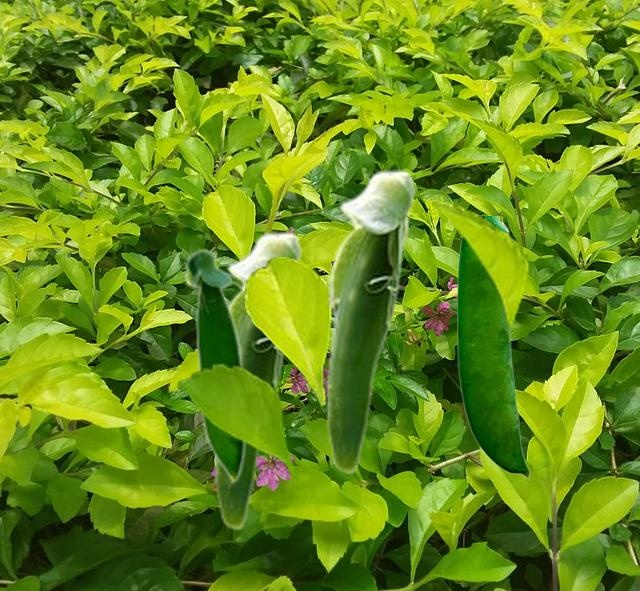pea: (325, 169, 416, 474), (213, 231, 302, 530), (457, 216, 529, 479), (183, 247, 246, 487)
